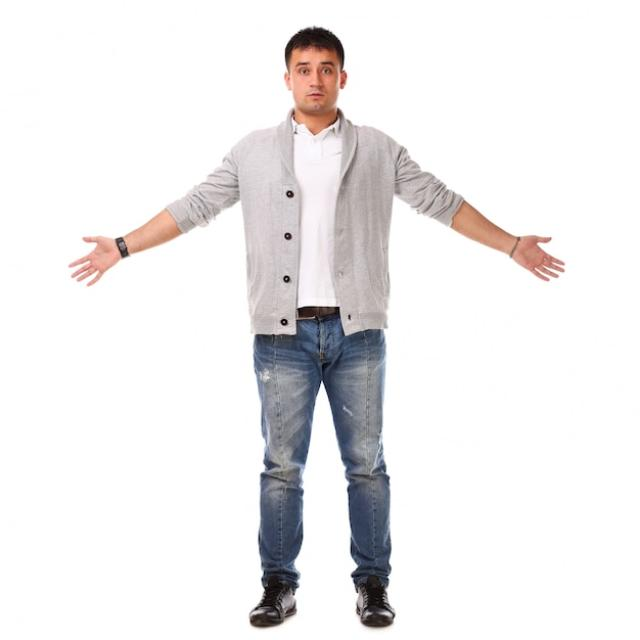Person: (69, 25, 564, 628)
